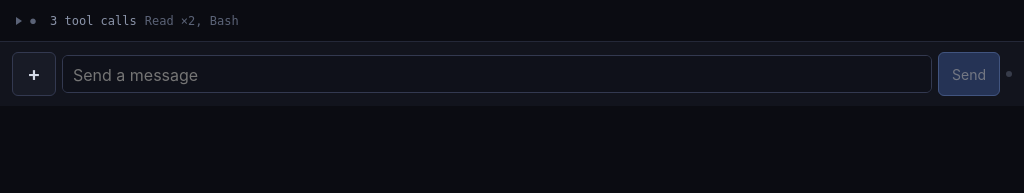
Test case: collapsed tool-call bursts › collapses a run of 3 or more into one line
The width and height of the screenshot is (1024, 193).
Click the button with class "feed-tool-group-head". click: (97, 21)
box: [16,14,1008,28]
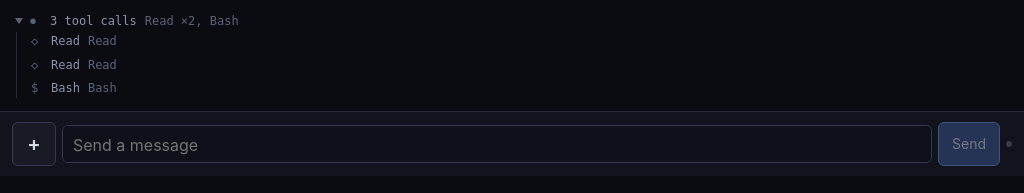
Result: the number of elements with class "feed-tool" is 3 at [31,34,117,48]; [31,58,117,72]; [31,81,117,95]
